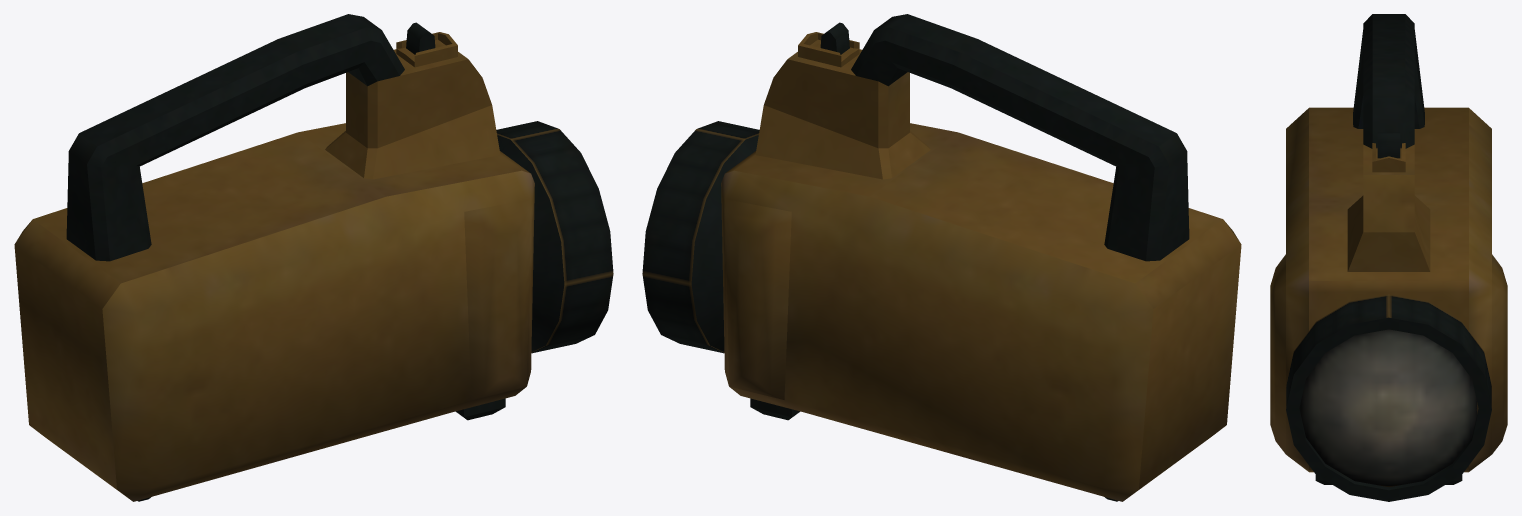
Rendered from flashlight_1.obj.
The picture shows the model from 3 angles, left to right: view 1: azimuth 30°, elevation 25°; view 2: azimuth 150°, elevation 25°; view 3: azimuth 270°, elevation 25°; orthographic projection. The views are drawn at different scales.
Parts seen in each view (by area): view 1: flashlight_1; view 2: flashlight_1; view 3: flashlight_1.
Part boxes in pixels (box(x1,y1,x2,y2)): flashlight_1: box(14, 14, 613, 501); flashlight_1: box(642, 14, 1241, 501); flashlight_1: box(1270, 14, 1507, 501).
Bounding box in the file's own units: 0.3801 × 0.2745 × 0.1656.
